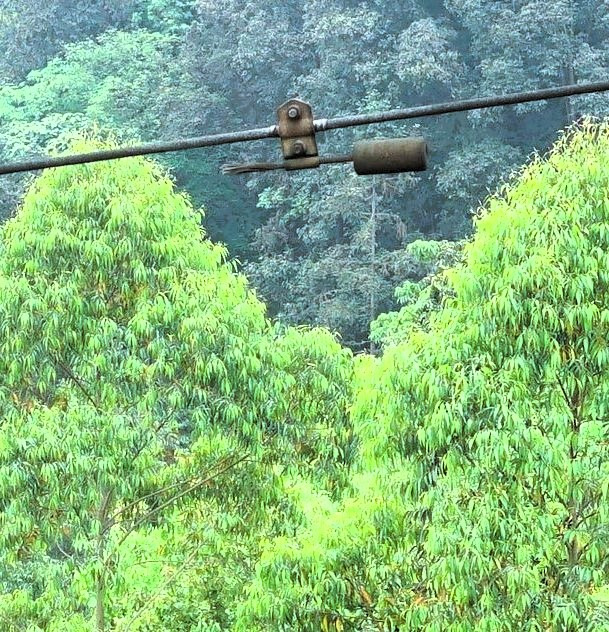Damage of shockproof hammer: (209, 82, 435, 201)
